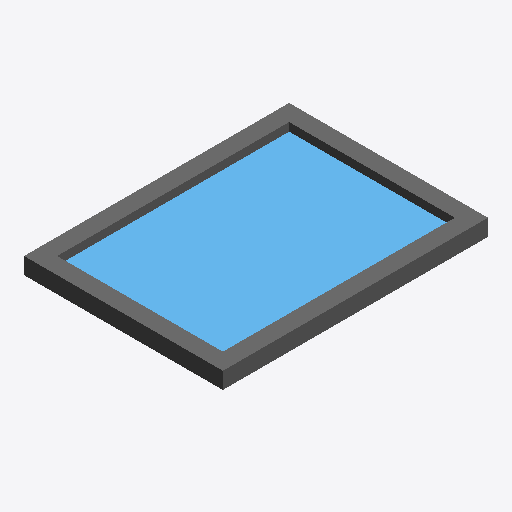
Isometric view (azimuth 45°, elevation 35.3°) of a Minecraft model made of 5 cuboids, textured from the same repository.
Visible parts, largest first — element 1, element 4, element 5, element 3, element 2.
Part boxes in pixels (x1,y1,x2,y2): element 1: (66,132,446,350); element 4: (206,208,487,389); element 5: (24,103,305,284); element 3: (41,256,222,379); element 2: (289,113,470,221).
Bounding box in the file's own units: 16 × 2 × 12.